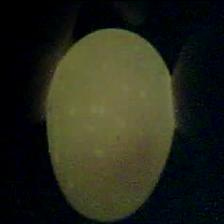infertile: (42, 27, 176, 222)
